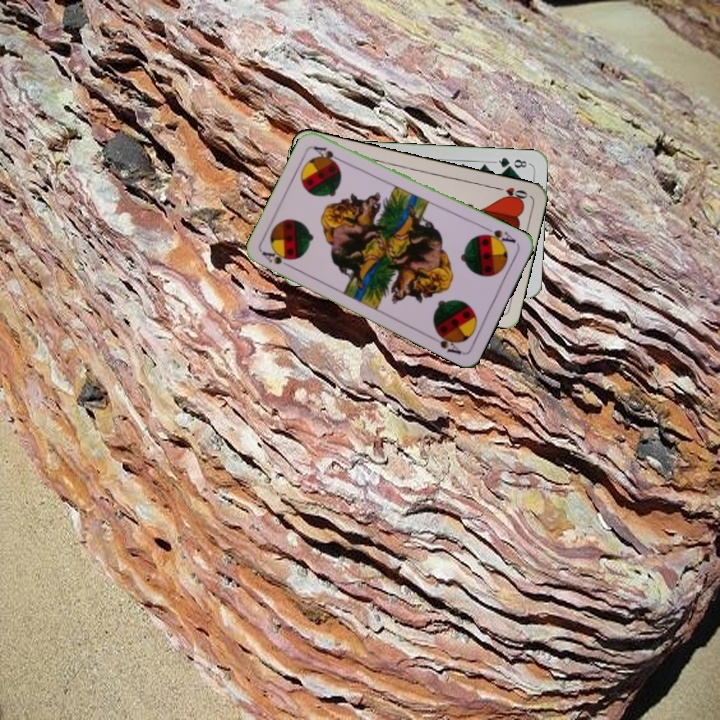G8: (491, 153, 531, 171)
HO: (491, 183, 530, 203)
SA: (478, 223, 518, 248), (258, 246, 296, 271)
